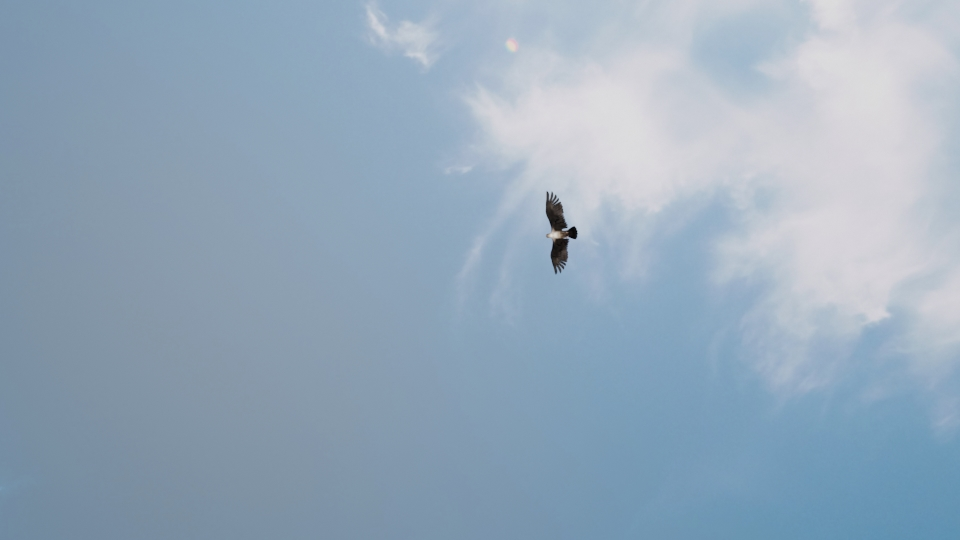bird: (542, 192, 576, 272)
